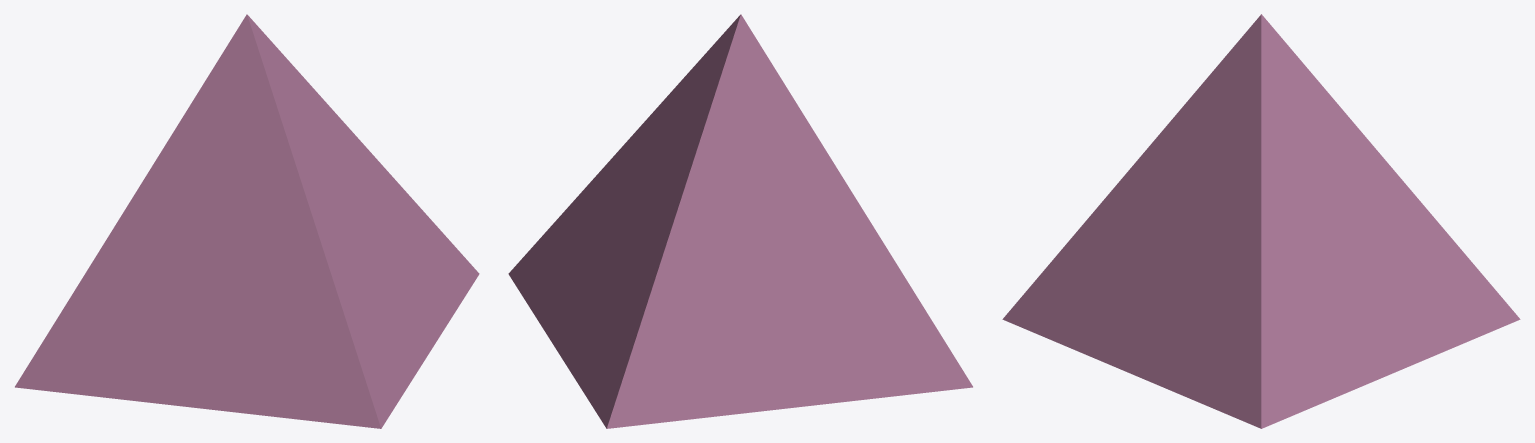
The picture shows the model from 3 angles, left to right: view 1: azimuth 30°, elevation 25°; view 2: azimuth 150°, elevation 25°; view 3: azimuth 270°, elevation 25°; orthographic projection. The views are drawn at different scales.
Parts seen in each view (by area): view 1: Cone.001; view 2: Cone.001; view 3: Cone.001.
Part boxes in pixels (bbox=[...]): Cone.001: bbox=[15, 14, 479, 428]; Cone.001: bbox=[508, 14, 972, 428]; Cone.001: bbox=[1002, 14, 1520, 428].
Size of the model in its own units: 6 by 3.9 by 6.
